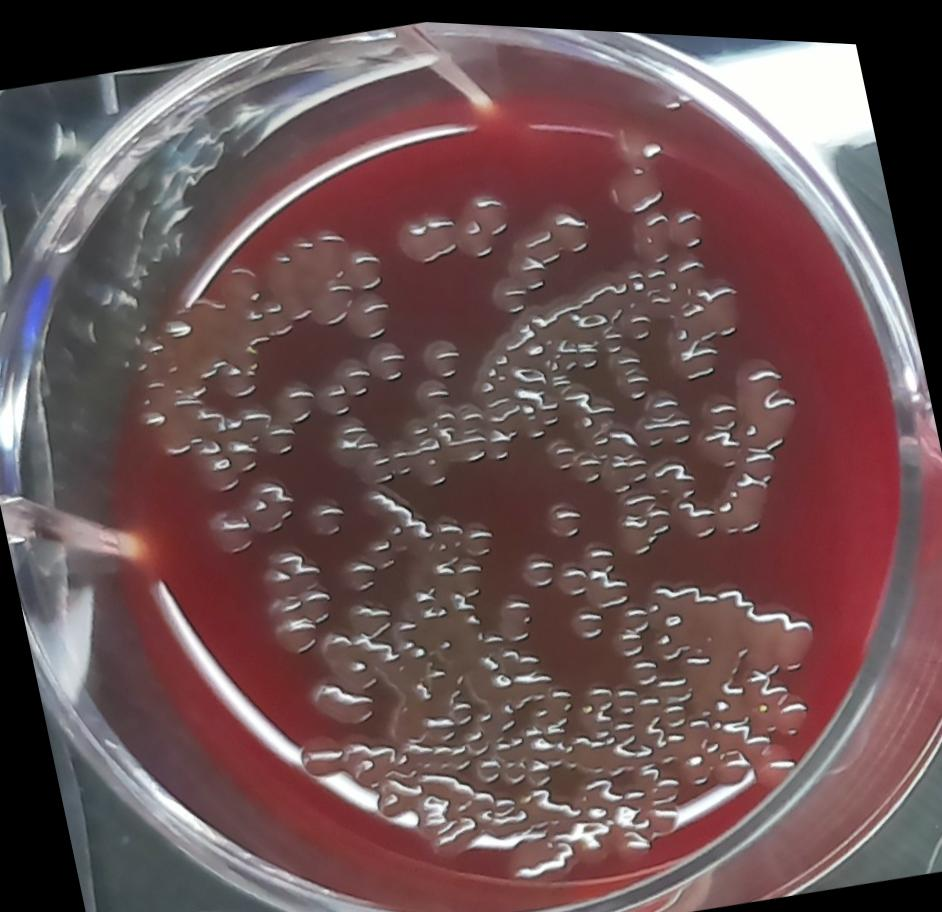vangil: (466, 186, 616, 319), (388, 197, 464, 267), (410, 320, 468, 382), (541, 488, 590, 542)
